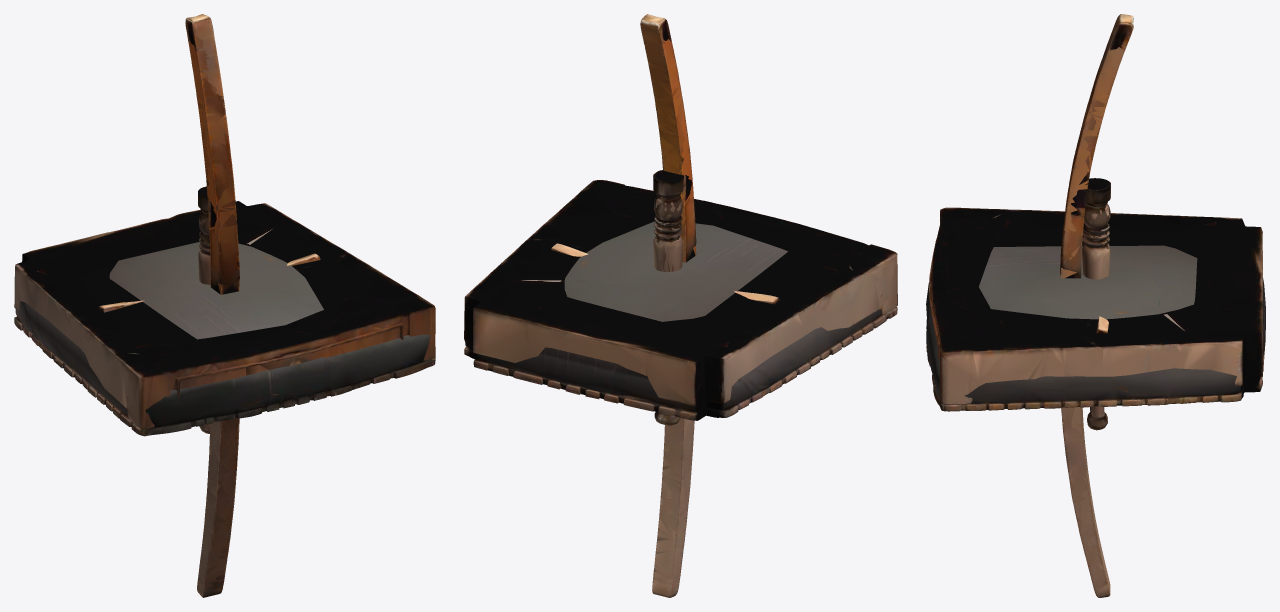
3 renders of one model, left to right at view 1: azimuth 30°, elevation 25°; view 2: azimuth 150°, elevation 25°; view 3: azimuth 270°, elevation 25°, orthographic. The views are drawn at different scales.
Parts seen in each view (by area): view 1: root.0, root.1, root.3, root.2, root.6; view 2: root.0, root.1, root.2, root.3, root.6, root.7, root.4; view 3: root.0, root.1, root.2, root.3, root.7, root.6.
Part boxes in pixels (<box>): root.0: <box>14,201,435,428</box>; root.1: <box>14,242,435,436</box>; root.3: <box>185,14,239,597</box>; root.2: <box>185,16,239,597</box>; root.6: <box>198,186,210,433</box>; root.0: <box>464,180,897,406</box>; root.1: <box>464,221,897,420</box>; root.2: <box>641,14,696,597</box>; root.3: <box>640,14,696,597</box>; root.6: <box>653,170,683,425</box>; root.7: <box>653,170,683,424</box>; root.4: <box>551,243,779,304</box>; root.0: <box>929,207,1262,404</box>; root.1: <box>926,245,1265,411</box>; root.2: <box>1060,14,1133,592</box>; root.3: <box>1060,16,1133,597</box>; root.7: <box>1082,186,1110,430</box>; root.6: <box>1082,178,1110,421</box>.
Size of the model in its own units: 19555 by 35813 by 19149.
1 material, 1 textured.
